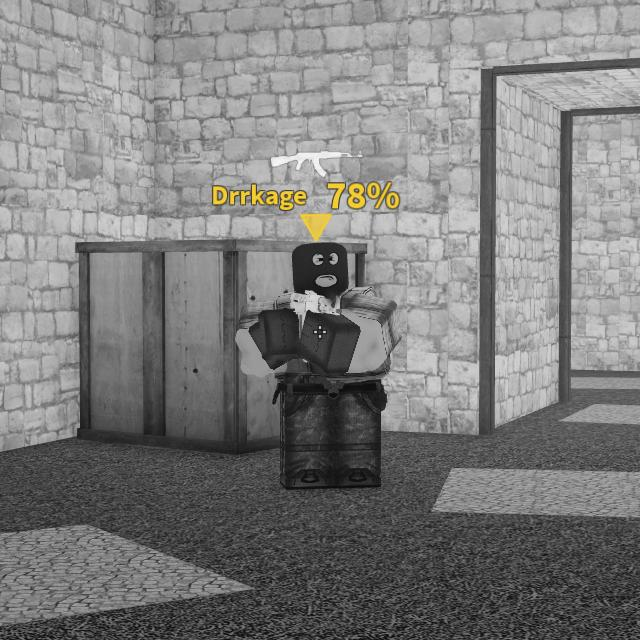Head: (292, 244, 348, 294)
Player: (238, 242, 403, 487)
